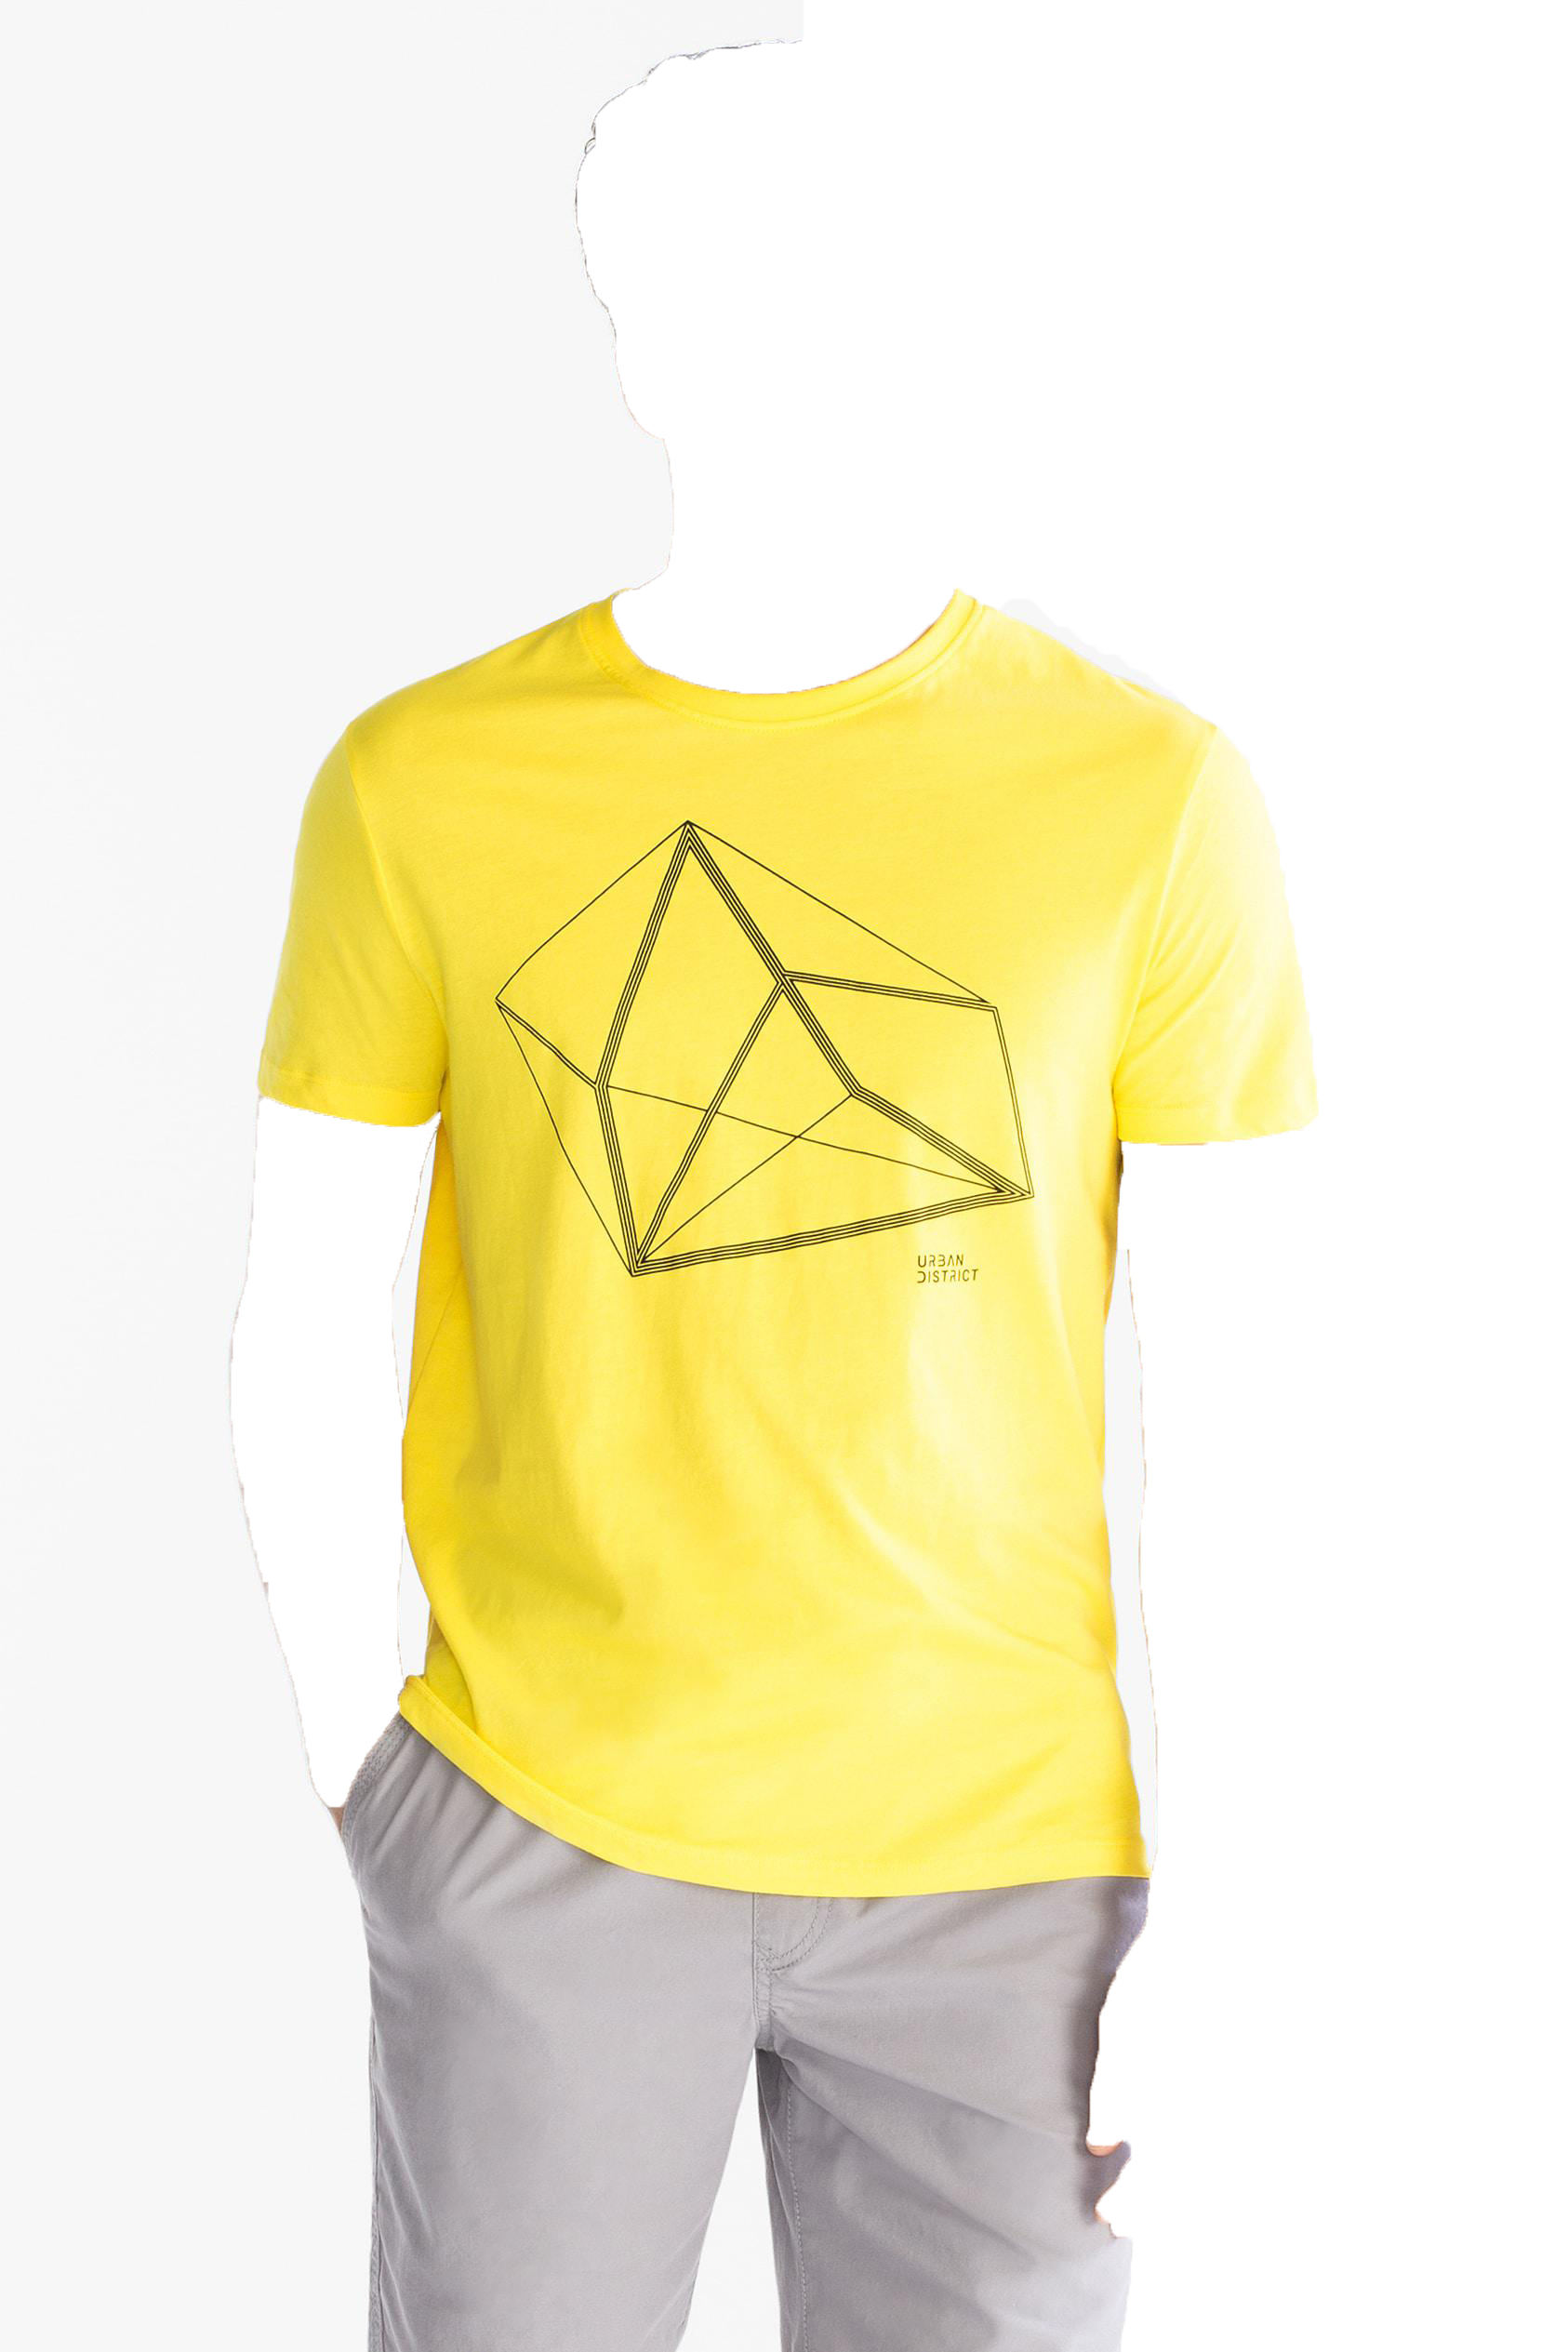teeshirt: (231, 588, 1337, 1902)
